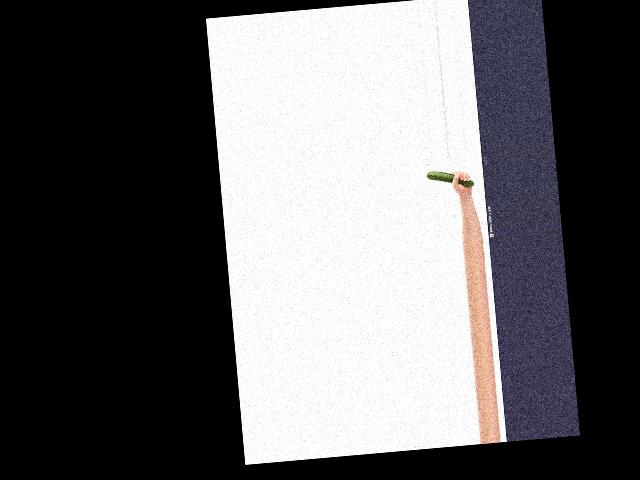cucumber: (426, 167, 474, 189)
